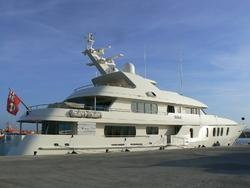yacht: (4, 35, 246, 156)
